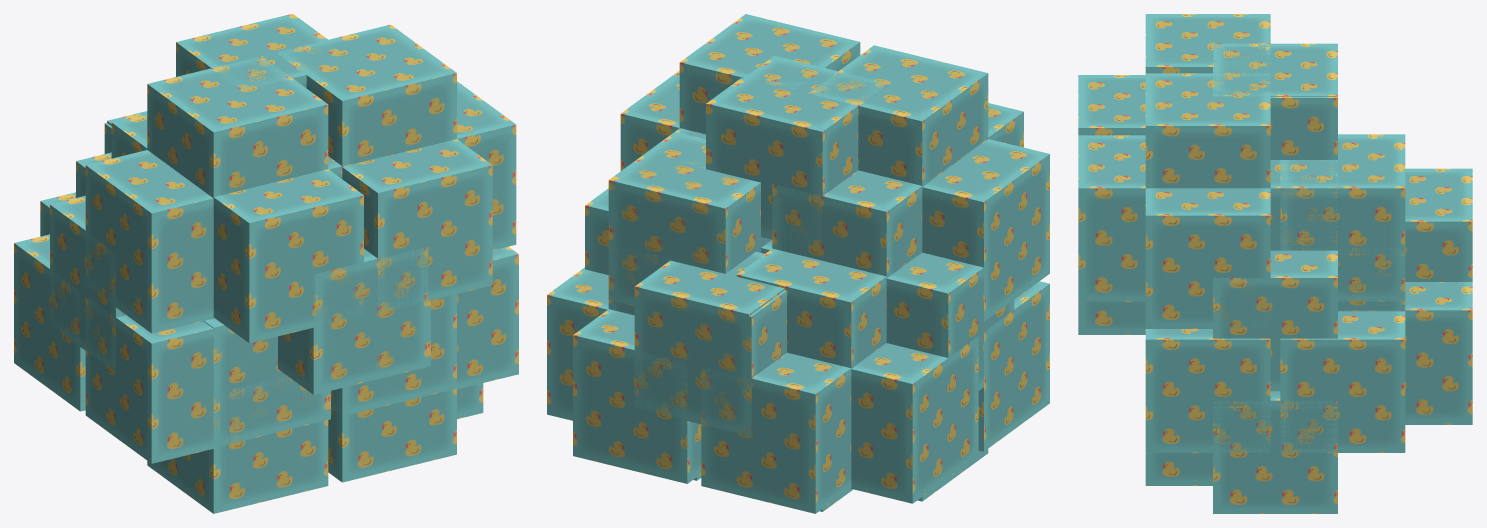
The model's file is cube_cyan.fbx.
3 renders of one model, left to right at view 1: azimuth 30°, elevation 25°; view 2: azimuth 150°, elevation 25°; view 3: azimuth 270°, elevation 25°, orthographic. The views are drawn at different scales.
Visible parts, largest first — view 1: Cube_cyan8, Cube_cyan4, Cube_cyan5, Cube_cyan3, Cube_cyan2, Cube_cyan6, Cube_cyan1, Cube_cyan7; view 2: Cube_cyan8, Cube_cyan4, Cube_cyan2, Cube_cyan6, Cube_cyan3, Cube_cyan5, Cube_cyan1, Cube_cyan7; view 3: Cube_cyan8, Cube_cyan3, Cube_cyan4, Cube_cyan2, Cube_cyan6, Cube_cyan1, Cube_cyan5, Cube_cyan7.
Part boxes in pixels (bbox=[...]): Cube_cyan8: bbox=[14, 81, 518, 463]; Cube_cyan4: bbox=[76, 24, 456, 513]; Cube_cyan5: bbox=[111, 114, 363, 343]; Cube_cyan3: bbox=[50, 14, 483, 419]; Cube_cyan2: bbox=[40, 124, 492, 312]; Cube_cyan6: bbox=[104, 14, 428, 394]; Cube_cyan1: bbox=[203, 294, 456, 447]; Cube_cyan7: bbox=[216, 325, 330, 443]; Cube_cyan8: bbox=[547, 71, 1049, 503]; Cube_cyan4: bbox=[608, 14, 988, 501]; Cube_cyan2: bbox=[573, 128, 922, 513]; Cube_cyan6: bbox=[585, 55, 944, 511]; Cube_cyan3: bbox=[634, 78, 1014, 480]; Cube_cyan5: bbox=[573, 103, 1023, 483]; Cube_cyan1: bbox=[608, 132, 886, 368]; Cube_cyan7: bbox=[611, 156, 771, 305]; Cube_cyan8: bbox=[1145, 188, 1405, 452]; Cube_cyan3: bbox=[1078, 97, 1472, 513]; Cube_cyan4: bbox=[1145, 14, 1405, 485]; Cube_cyan2: bbox=[1078, 135, 1472, 423]; Cube_cyan6: bbox=[1213, 43, 1337, 391]; Cube_cyan1: bbox=[1280, 135, 1405, 311]; Cube_cyan5: bbox=[1078, 75, 1472, 424]; Cube_cyan7: bbox=[1280, 134, 1405, 187].
Bounding box in the file's own units: 74.2 × 73.7 × 73.2.
1 material, 1 textured.
